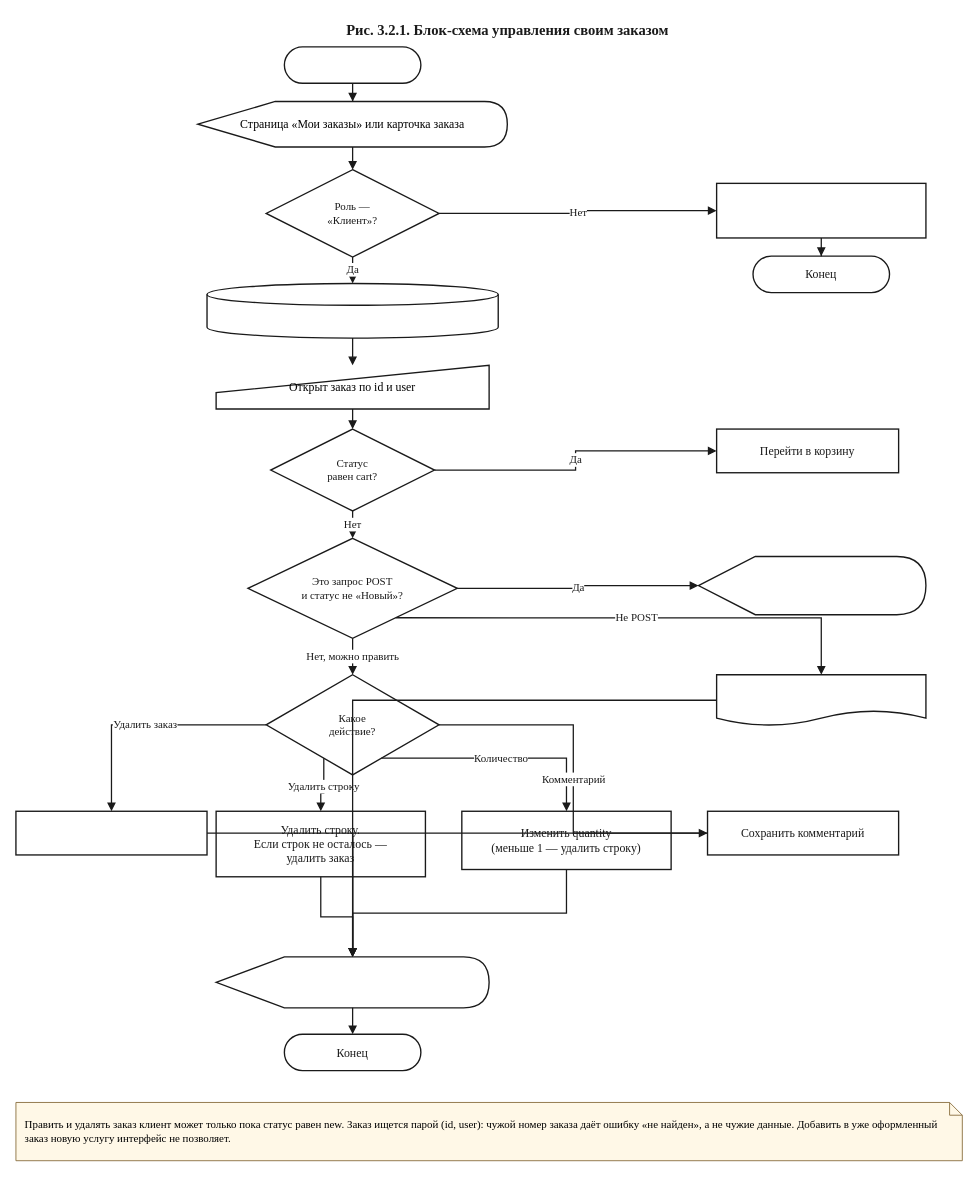
This 979x1177 diagram has some shape labels left out. The box of each missing label's shape, as (x1, y1, x2, y2) in pixels:
«Заказ уже обрабатывается». Вернуться к карточке: (697, 555, 926, 615)
Выборка заказов пользователя, кроме статуса cart: (206, 282, 498, 338)
Начало: (283, 46, 421, 84)
Отказ. На главную или на страницу входа: (716, 182, 926, 238)
Показать состав заказа без изменения: (716, 674, 926, 726)
Снова открыть список или карточку заказа: (215, 956, 489, 1008)
Удалить заказ целиком: (15, 810, 207, 855)
